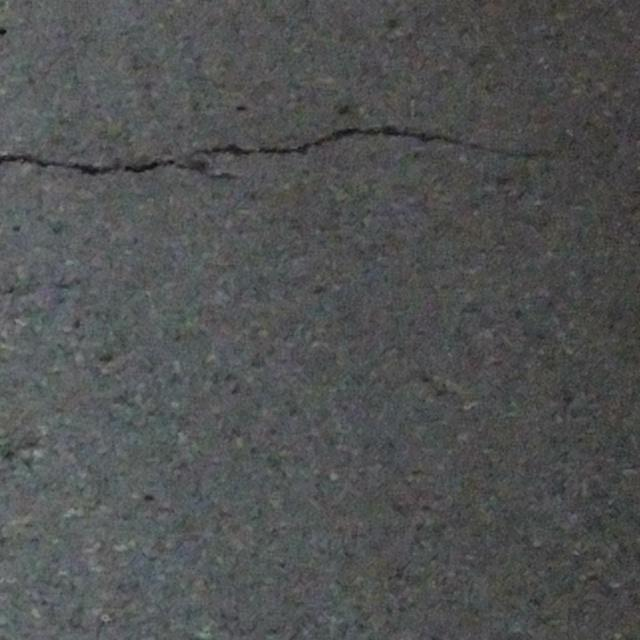TransverseCrack: (1, 127, 537, 182)
